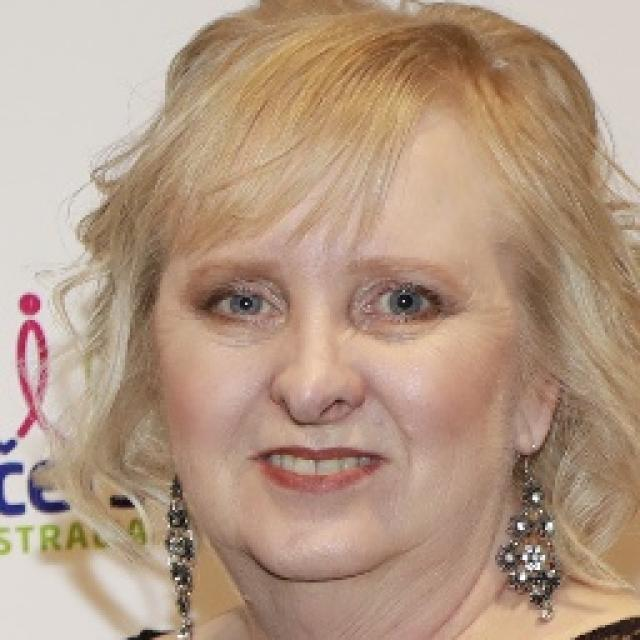earlobe: (516, 402, 550, 456)
eye: (360, 287, 444, 321), (211, 290, 281, 320)
nose: (277, 402, 359, 436)
wholeear: (516, 344, 568, 457)
